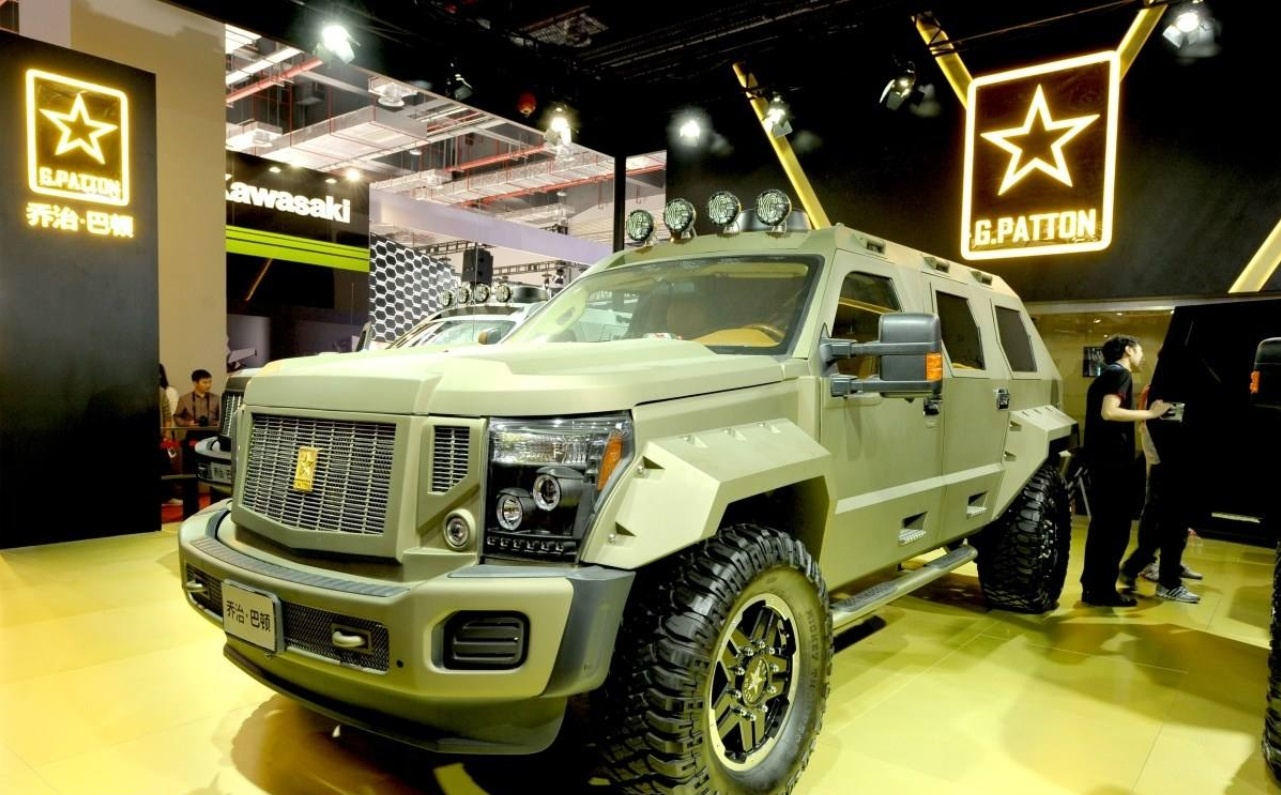jeep: (187, 165, 1072, 762)
